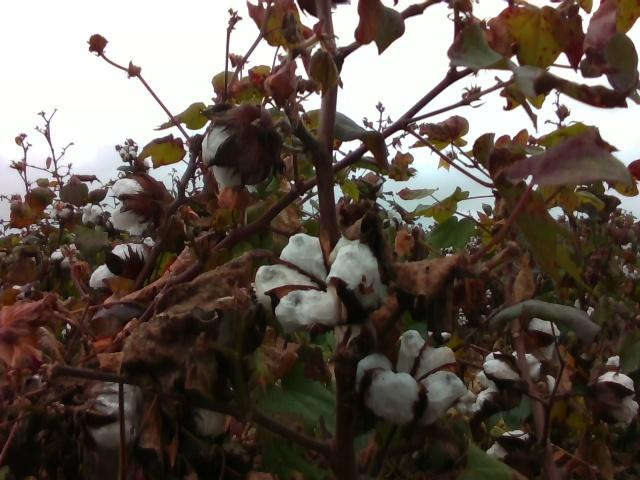cotton_ready: (251, 234, 382, 336), (352, 330, 465, 425), (472, 347, 556, 423), (86, 377, 145, 455), (88, 239, 159, 292), (595, 371, 640, 435), (200, 120, 240, 192), (108, 178, 150, 237), (484, 428, 532, 468), (194, 402, 231, 439)
